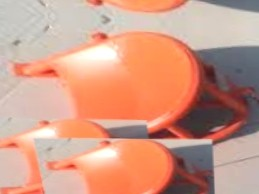chock: (0, 20, 258, 167), (0, 116, 155, 194), (33, 136, 216, 194), (18, 141, 178, 194)
